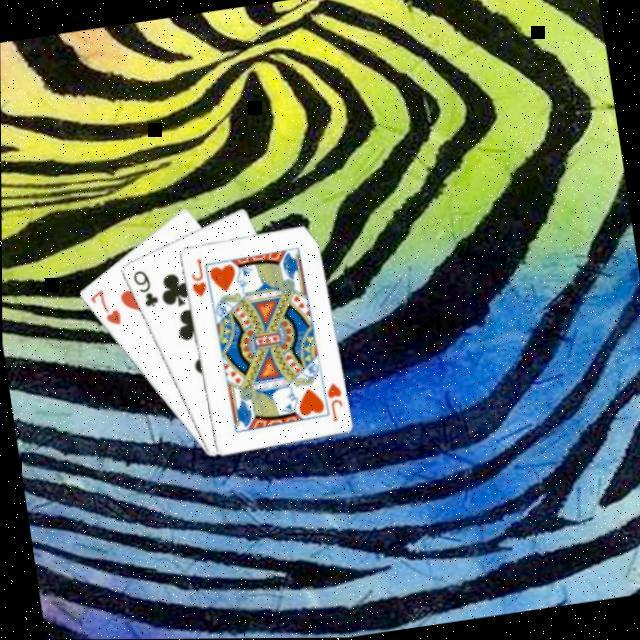7H: (84, 285, 124, 333)
9C: (127, 266, 161, 314)
JH: (182, 256, 208, 301), (321, 380, 347, 425)
